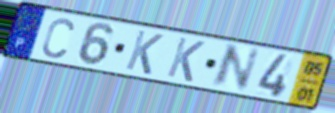4: (256, 52, 290, 99)
6: (76, 22, 116, 67)
C: (40, 16, 76, 60)
K: (164, 35, 207, 84), (123, 28, 165, 77)
N: (207, 43, 263, 92)
